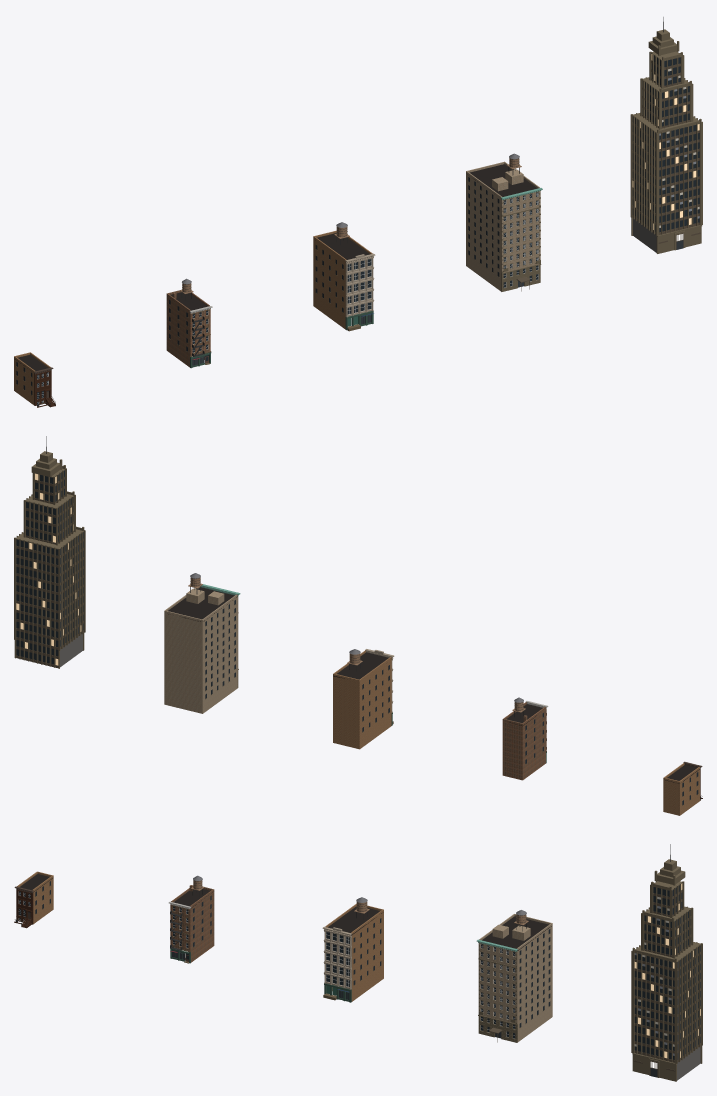
The model's file is handmade--pDodH6X.glb.
3 renders of one model, top to bottom at view 1: azimuth 30°, elevation 25°; view 2: azimuth 150°, elevation 25°; view 3: azimuth 330°, elevation 25°, orthographic.
Parts seen in each view (by area): view 1: Hand_tower_5_calcaire, Hand_apartments_4_brique_beige, Hand_tower_5_vitre, Hand_tower_5_bronze, Hand_low_3_brique_cote, Hand_walkup_2_brique, Hand_apartments_4_vitre, Hand_apartments_4_calcaire, Hand_low_3_fonte_peinte, Hand_low_3_vitre, Hand_apartments_4_toit, Hand_house_1_brique_cote (+2 smaller); view 2: Hand_tower_5_calcaire, Hand_apartments_4_brique_beige, Hand_tower_5_vitre, Hand_low_3_brique_cote, Hand_tower_5_bronze, Hand_walkup_2_brique, Hand_house_1_brique_cote, Hand_apartments_4_toit, Hand_low_3_toit, Hand_apartments_4_vitre; view 3: Hand_tower_5_calcaire, Hand_apartments_4_brique_beige, Hand_tower_5_vitre, Hand_tower_5_bronze, Hand_low_3_brique_cote, Hand_walkup_2_brique, Hand_apartments_4_vitre, Hand_apartments_4_calcaire, Hand_low_3_fonte_peinte, Hand_low_3_vitre, Hand_house_1_brique_cote, Hand_apartments_4_toit (+6 smaller).
Part boxes in pixels (bbox=[...]): Hand_tower_5_calcaire: bbox=[630, 29, 702, 253]; Hand_apartments_4_brique_beige: bbox=[466, 161, 540, 291]; Hand_tower_5_vitre: bbox=[632, 56, 699, 232]; Hand_tower_5_bronze: bbox=[632, 60, 700, 249]; Hand_low_3_brique_cote: bbox=[313, 230, 372, 329]; Hand_walkup_2_brique: bbox=[166, 290, 210, 367]; Hand_apartments_4_vitre: bbox=[468, 177, 538, 287]; Hand_apartments_4_calcaire: bbox=[501, 191, 541, 291]; Hand_low_3_fonte_peinte: bbox=[345, 253, 375, 317]; Hand_low_3_vitre: bbox=[315, 245, 371, 314]; Hand_apartments_4_toit: bbox=[467, 164, 537, 199]; Hand_house_1_brique_cote: bbox=[14, 352, 50, 405]; Hand_tower_5_calcaire: bbox=[14, 451, 85, 668]; Hand_apartments_4_brique_beige: bbox=[164, 587, 238, 713]; Hand_tower_5_vitre: bbox=[16, 470, 83, 664]; Hand_low_3_brique_cote: bbox=[333, 650, 391, 749]; Hand_tower_5_bronze: bbox=[16, 477, 83, 667]; Hand_walkup_2_brique: bbox=[502, 702, 546, 780]; Hand_house_1_brique_cote: bbox=[663, 763, 699, 815]; Hand_apartments_4_toit: bbox=[168, 587, 237, 621]; Hand_low_3_toit: bbox=[333, 652, 391, 679]; Hand_apartments_4_vitre: bbox=[205, 600, 235, 698]; Hand_tower_5_calcaire: bbox=[631, 859, 702, 1081]; Hand_apartments_4_brique_beige: bbox=[478, 914, 552, 1041]; Hand_tower_5_vitre: bbox=[634, 885, 700, 1059]; Hand_tower_5_bronze: bbox=[633, 890, 700, 1077]; Hand_low_3_brique_cote: bbox=[325, 903, 383, 1001]; Hand_walkup_2_brique: bbox=[170, 885, 214, 962]; Hand_apartments_4_vitre: bbox=[481, 929, 550, 1038]; Hand_apartments_4_calcaire: bbox=[478, 943, 517, 1042]; Hand_low_3_fonte_peinte: bbox=[322, 926, 351, 989]; Hand_low_3_vitre: bbox=[326, 918, 381, 986]; Hand_house_1_brique_cote: bbox=[17, 871, 53, 923]; Hand_apartments_4_toit: bbox=[482, 916, 551, 950].
Bounding box in the file's own units: 258 × 82.1 × 27.51.
30 materials, 8 textured.
